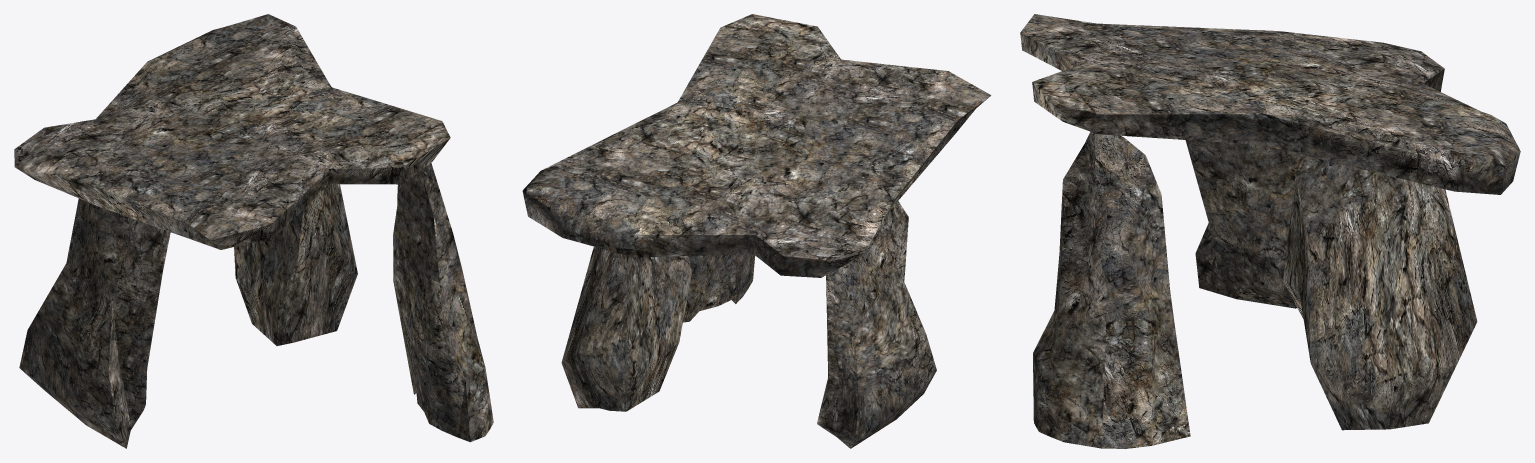
Rendered from pir_m_prp_cem_stoneAlter_1.fbx.
3 views of the same model, side by side, from view 1: azimuth 30°, elevation 25°; view 2: azimuth 150°, elevation 25°; view 3: azimuth 270°, elevation 25° (orthographic). The views are drawn at different scales.
Parts seen in each view (by area): view 1: rock_flat, rock_a, rock_f, rock_b; view 2: rock_flat, rock_a, rock_b, rock_f; view 3: rock_flat, rock_b, rock_f, rock_a.
Boxes of the visible parts, box(x1,y1,x2,y2) form: rock_flat: box(14, 14, 450, 249); rock_a: box(19, 198, 170, 448); rock_f: box(393, 163, 493, 442); rock_b: box(234, 184, 357, 345); rock_flat: box(522, 14, 991, 277); rock_a: box(817, 201, 936, 448); rock_b: box(561, 246, 692, 411); rock_f: box(683, 254, 755, 322); rock_flat: box(1020, 14, 1520, 194); rock_b: box(1283, 161, 1477, 430); rock_f: box(1033, 131, 1190, 448); rock_a: box(1185, 140, 1326, 308).
Bounding box in the file's own units: 1939 × 1645 × 2370.
Materials: 1 (1 with a texture image).
